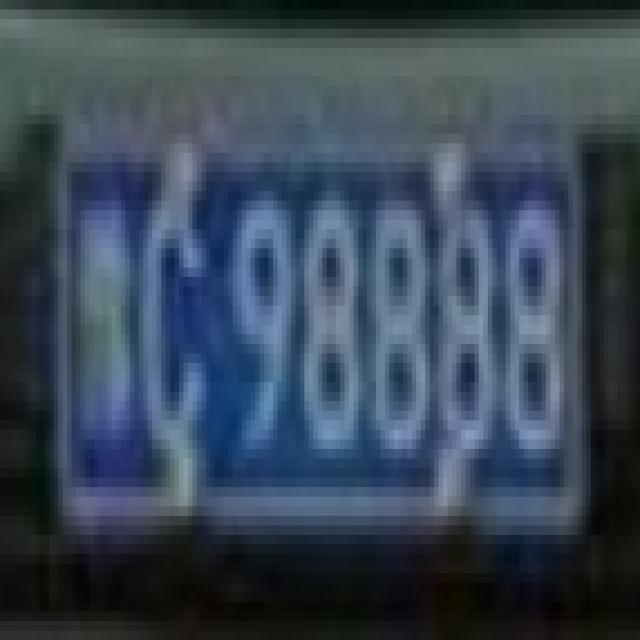licenseplate: (45, 97, 590, 526)
